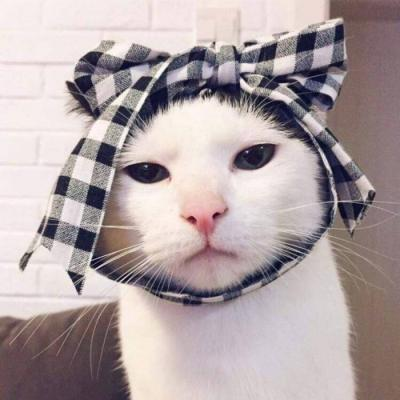cat: (64, 52, 340, 320)
